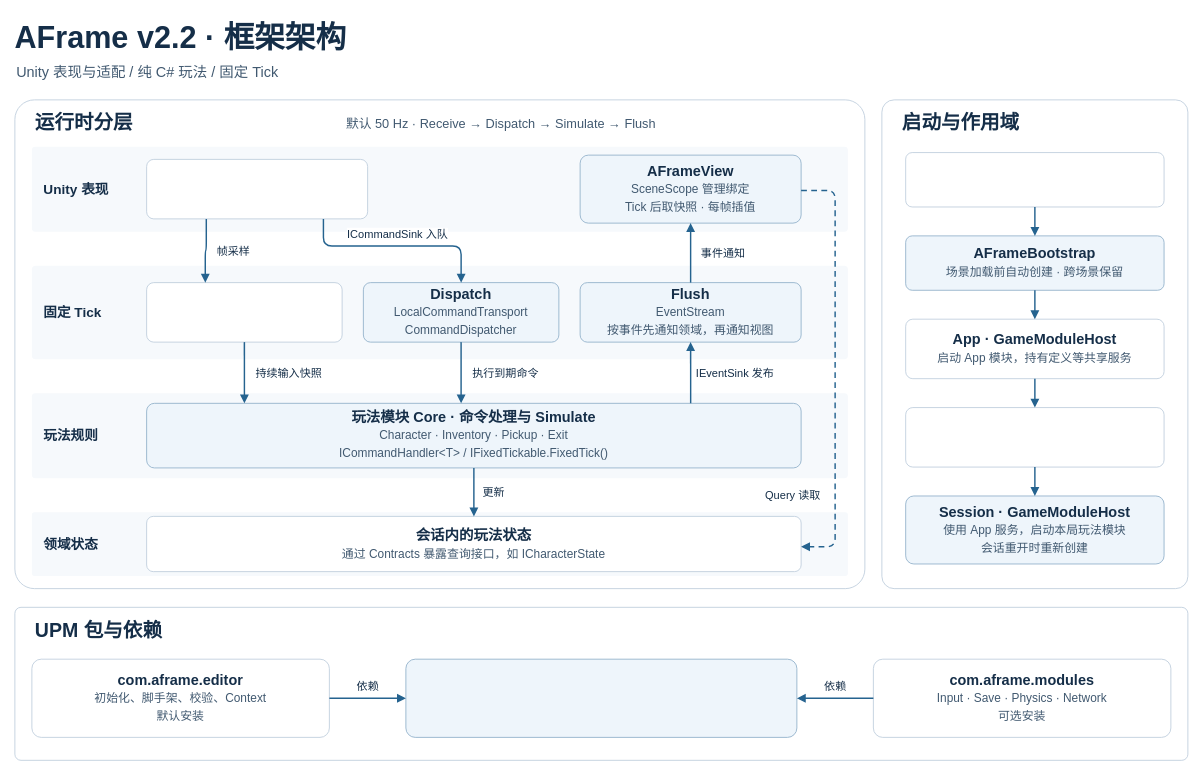
The diagram is 1203 pixels wide and 775 high, and some of its shapes have lost their labels. The centre of each missing label's shape, as x and y in pixels:
AFrameGameProfile Resources 中的模块与 Tick 配置: the point at 1034,179
com.aframe.core Foundation · Runtime · Data · Data.Unity · Unity 默认安装: the point at 601,697
Receive ITickInput.Freeze() 冻结持续输入: the point at 244,312
场景入口 AFrameSceneEntry 或 SceneScope 决定何时启动会话: the point at 1034,437
输入与交互 AFrameSceneEntry · 输入适配器: the point at 257,189
